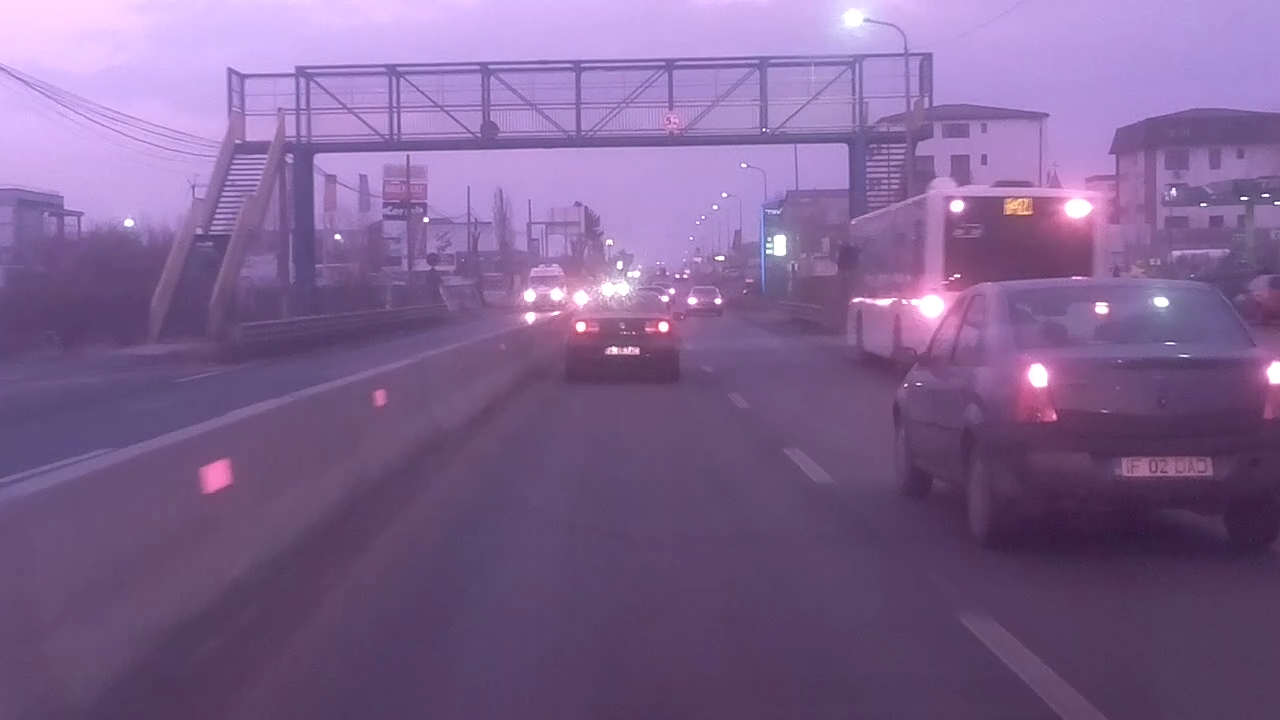license-plate: (1108, 452, 1219, 480)
